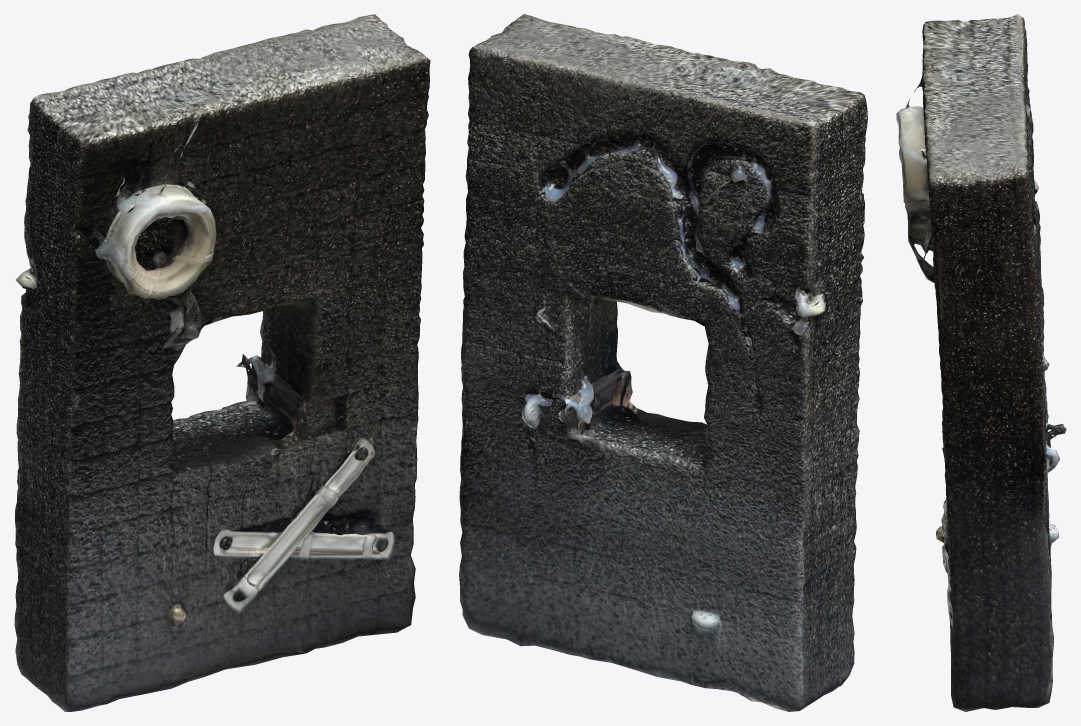
3 views of the same model, side by side, from view 1: azimuth 30°, elevation 25°; view 2: azimuth 150°, elevation 25°; view 3: azimuth 270°, elevation 25° (orthographic). The views are drawn at different scales.
Visible parts, largest first — view 1: P18.001; view 2: P18.001; view 3: P18.001.
Part boxes in pixels (<box>): P18.001: <box>14,14,430,711</box>; P18.001: <box>459,14,867,711</box>; P18.001: <box>896,14,1066,711</box>.
Size of the model in its own units: 0.4835 by 0.7615 by 0.2138.
Materials: 1 (1 with a texture image).
